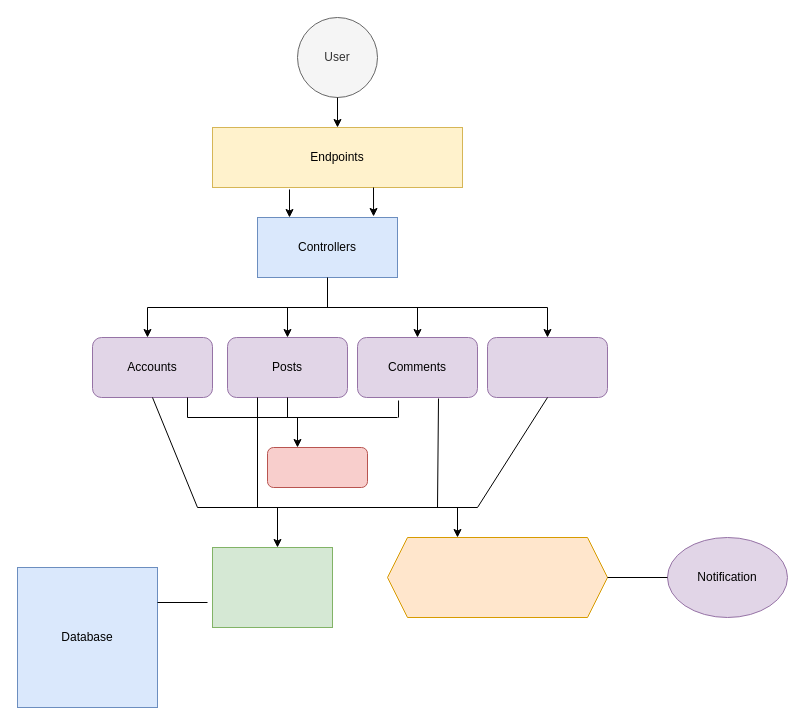
The diagram is 805 pixels wide and 725 high, and some of its shapes have lost their labels. The shapes that lost their labels are listed below. From the top down, each one's centre as x and y in pixels, then its label:
At (x=547, y=367): "Interactions".
At (x=317, y=467): "Cache".
At (x=272, y=587): "Repositorys".
At (x=497, y=577): "Message-broker".
